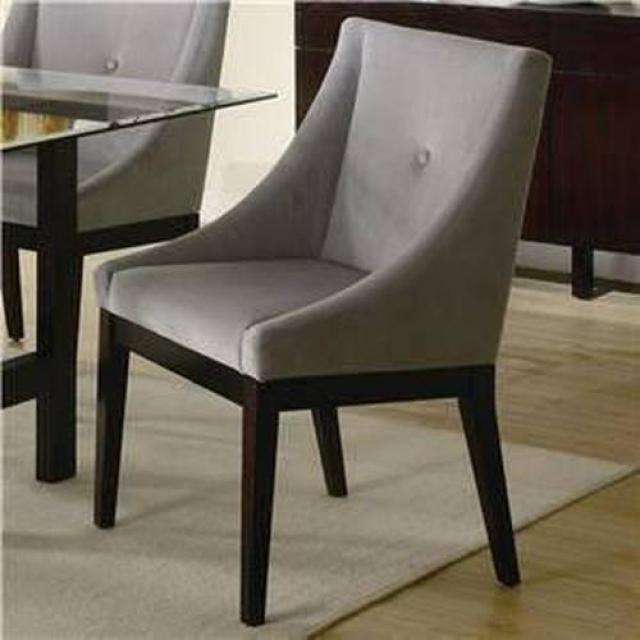chair: (92, 18, 554, 628)
